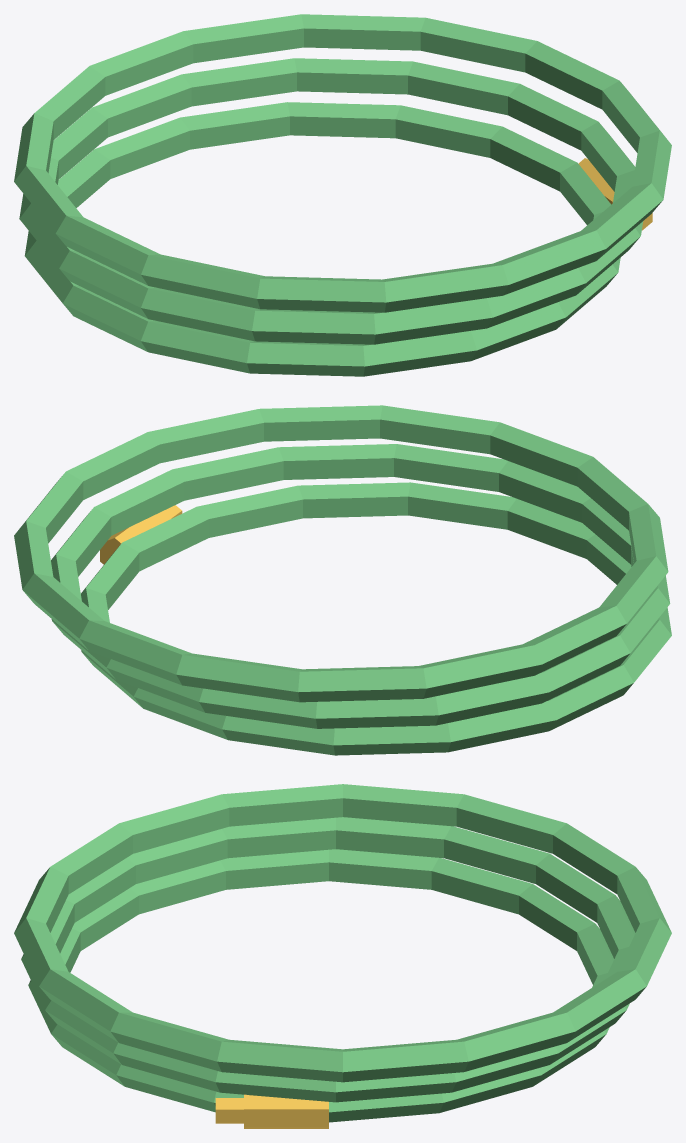
File: hose_coil.glb
3 views of the same model, one above another, from view 1: azimuth 30°, elevation 25°; view 2: azimuth 150°, elevation 25°; view 3: azimuth 270°, elevation 25° (orthographic).
Bounding box in the file's own units: 0.465 × 0.0759 × 0.465.
